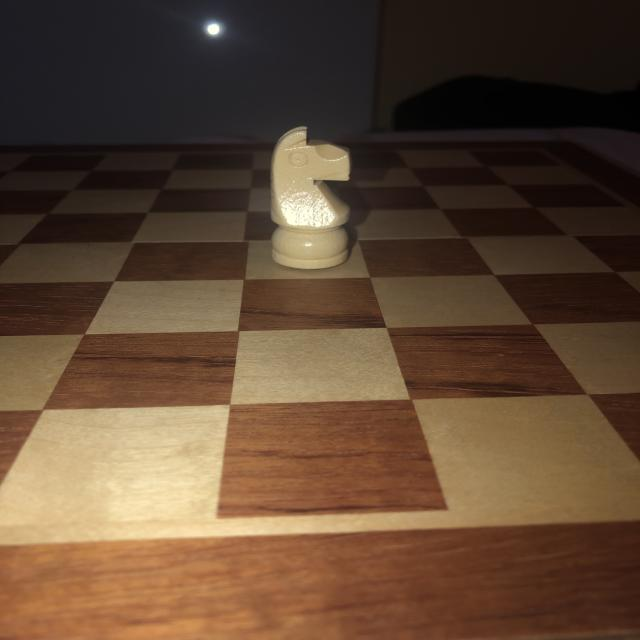white_knight: (266, 124, 356, 274)
